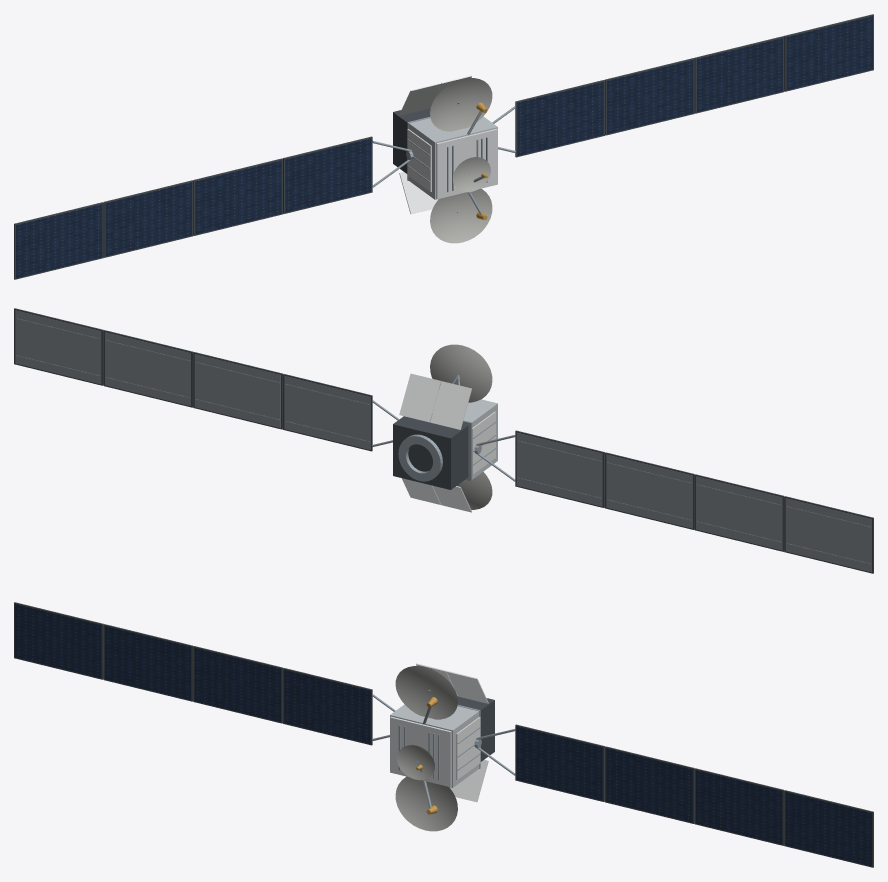
The model's file is ssl-1300-galaxy-telstar.glb.
3 renders of one model, top to bottom at view 1: azimuth 30°, elevation 25°; view 2: azimuth 150°, elevation 25°; view 3: azimuth 330°, elevation 25°, orthographic.
Parts seen in each view (by area): view 1: Solar cell panel (×8), Solar panel frame (×8), Communications reflector (×2), Earth-facing deck, Deployed radiator leaf (×2), Payload module, Radiator face, Deck-mounted reflector, Service module; view 2: Rear array substrate (×8), Solar panel frame (×8), Deployed radiator leaf (×4), Service module, Communications reflector (×2), Launch adapter ring, Radiator face, Payload module; view 3: Solar cell panel (×8), Solar panel frame (×8), Communications reflector (×2), Earth-facing deck, Payload module, Deployed radiator leaf (×2), Radiator face, Deck-mounted reflector, Service module.
Boxes of the visible parts, bbox=[...] form: Solar cell panel (×8): bbox=[16, 16, 872, 278]; Solar panel frame (×8): bbox=[14, 14, 873, 279]; Communications reflector (×2): bbox=[430, 78, 492, 243]; Earth-facing deck: bbox=[436, 128, 497, 199]; Deployed radiator leaf (×2): bbox=[399, 83, 441, 214]; Payload module: bbox=[408, 116, 497, 199]; Radiator face: bbox=[407, 129, 431, 191]; Deck-mounted reflector: bbox=[453, 157, 490, 192]; Service module: bbox=[393, 108, 430, 173]; Rear array substrate (×8): bbox=[15, 310, 871, 572]; Solar panel frame (×8): bbox=[14, 308, 873, 573]; Deployed radiator leaf (×4): bbox=[399, 373, 471, 512]; Service module: bbox=[393, 416, 468, 489]; Communications reflector (×2): bbox=[430, 344, 492, 509]; Launch adapter ring: bbox=[398, 434, 442, 481]; Radiator face: bbox=[472, 411, 495, 474]; Payload module: bbox=[432, 390, 497, 479]; Solar cell panel (×8): bbox=[15, 604, 871, 866]; Solar panel frame (×8): bbox=[14, 602, 873, 867]; Communications reflector (×2): bbox=[395, 666, 457, 831]; Earth-facing deck: bbox=[390, 716, 451, 787]; Payload module: bbox=[390, 704, 479, 787]; Deployed radiator leaf (×2): bbox=[446, 671, 488, 802]; Radiator face: bbox=[456, 717, 480, 779]; Deck-mounted reflector: bbox=[397, 745, 434, 780]; Service module: bbox=[457, 696, 494, 761].
Bounding box in the file's own units: 29.97 × 5.45 × 3.58.
8 materials, 1 textured.
